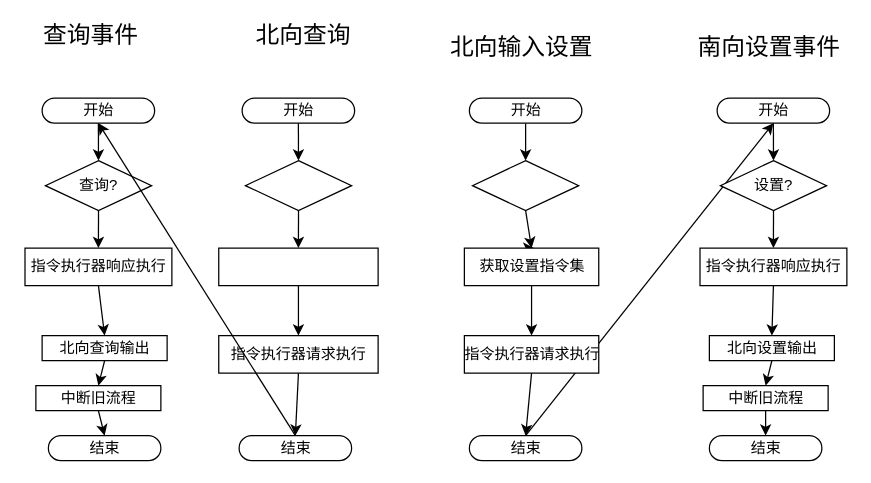
The diagram is 871 pixels wide and 483 high, and some of its shapes have lost their labels. Each missing label, with the centre of its shape:
北向查询?: the point at 298,185
北向设置?: the point at 525,185
获取查询指令集: the point at 298,266
